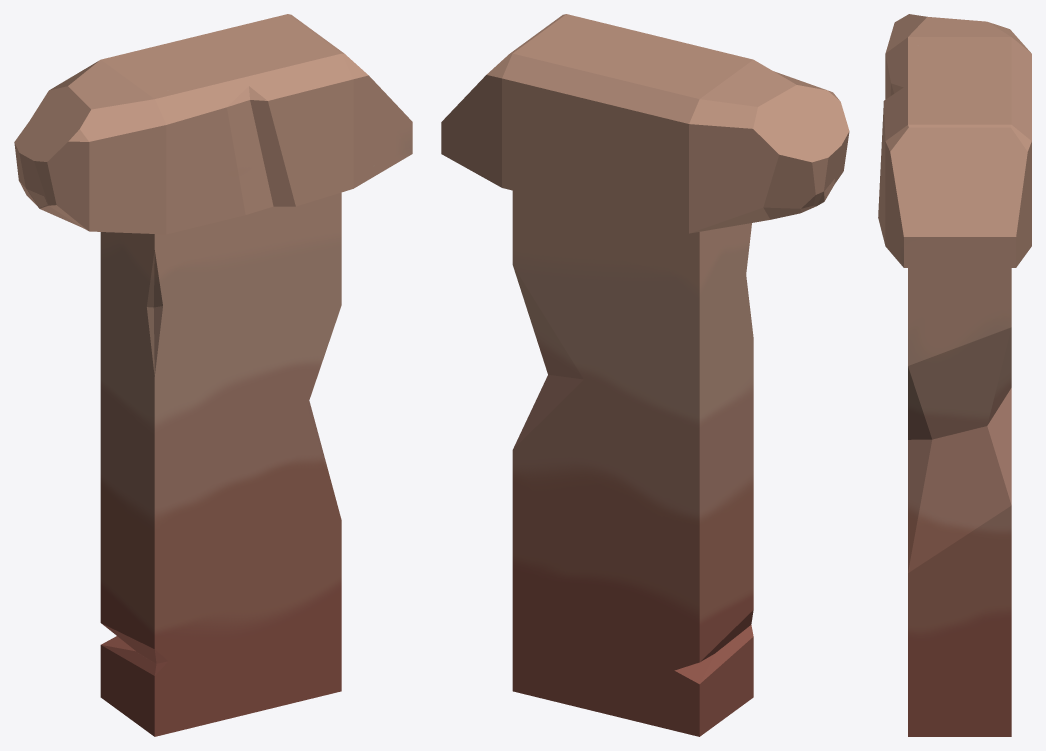
File: Collumn3.fbx
The picture shows the model from 3 angles, left to right: view 1: azimuth 30°, elevation 25°; view 2: azimuth 150°, elevation 25°; view 3: azimuth 270°, elevation 25°; orthographic projection. The views are drawn at different scales.
Parts seen in each view (by area): view 1: Cube; view 2: Cube; view 3: Cube.
Part boxes in pixels (box(x1,y1,x2,y2)): Cube: box(14, 14, 412, 736); Cube: box(441, 14, 849, 736); Cube: box(878, 14, 1031, 736).
Bounding box in the file's own units: 772 × 1303 × 297.
Materials: 1 (1 with a texture image).
